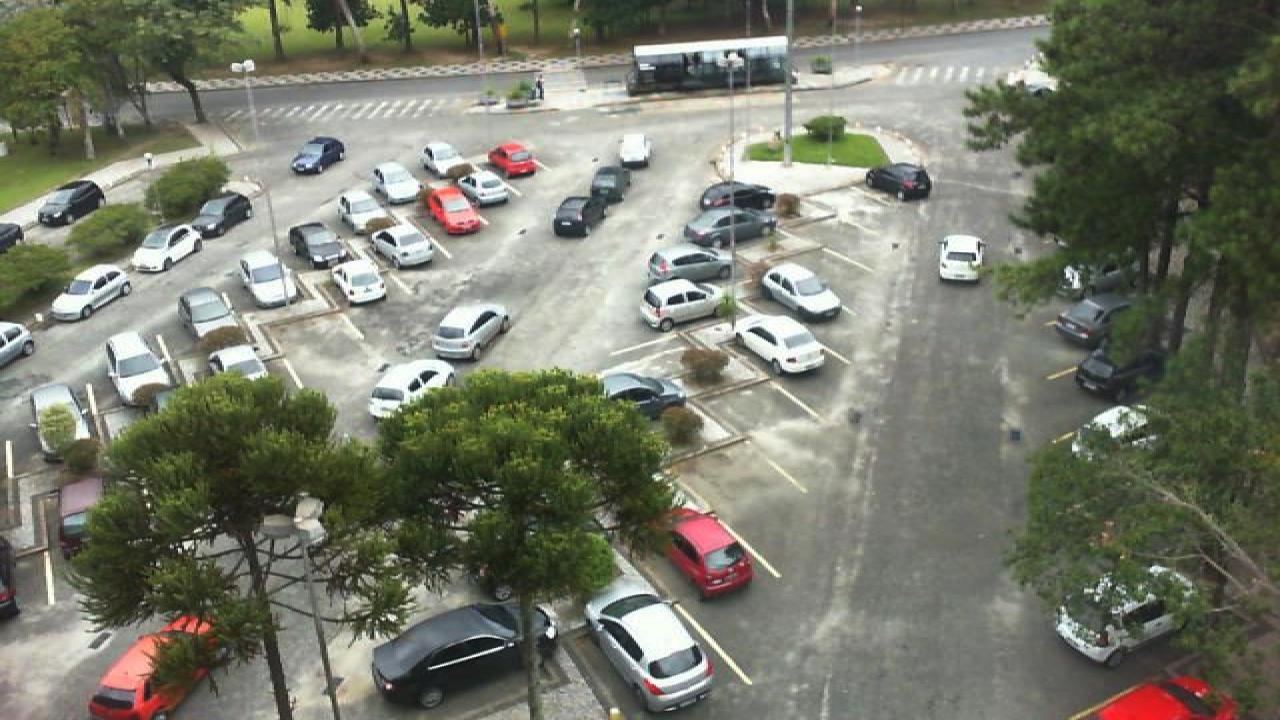Car: (366, 602, 564, 709), (584, 588, 718, 714), (1054, 562, 1200, 666), (86, 614, 222, 720), (644, 507, 754, 598), (1074, 675, 1240, 720), (726, 312, 830, 376), (366, 360, 456, 422), (26, 384, 94, 466), (760, 262, 846, 323), (48, 263, 132, 322), (1050, 291, 1134, 350), (430, 303, 512, 362), (104, 334, 170, 406), (638, 277, 724, 332), (596, 371, 690, 421), (1072, 348, 1158, 402), (176, 287, 244, 349), (680, 208, 776, 248), (130, 223, 204, 273), (36, 178, 108, 227), (422, 181, 486, 236), (646, 246, 734, 284), (240, 248, 294, 308), (368, 223, 436, 270), (288, 220, 348, 270), (698, 179, 778, 214), (338, 189, 400, 234), (330, 258, 388, 306), (864, 162, 934, 199), (200, 344, 268, 382), (368, 162, 424, 205), (936, 234, 986, 282), (416, 141, 472, 182), (290, 135, 346, 175), (456, 170, 514, 206), (486, 142, 542, 179), (552, 195, 600, 238), (0, 318, 36, 370), (586, 166, 630, 204), (616, 134, 652, 170)
